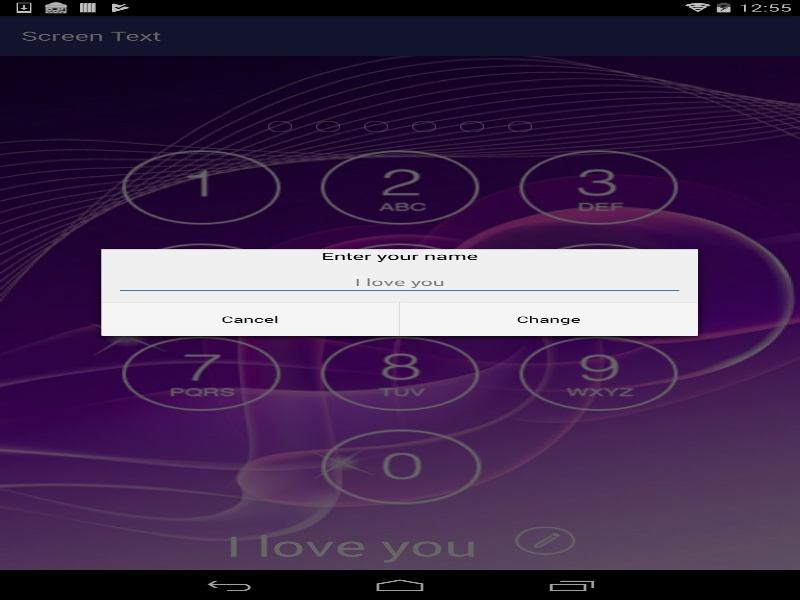Button: (400, 302, 698, 336), (101, 302, 398, 336)
Input: (114, 269, 684, 295)
